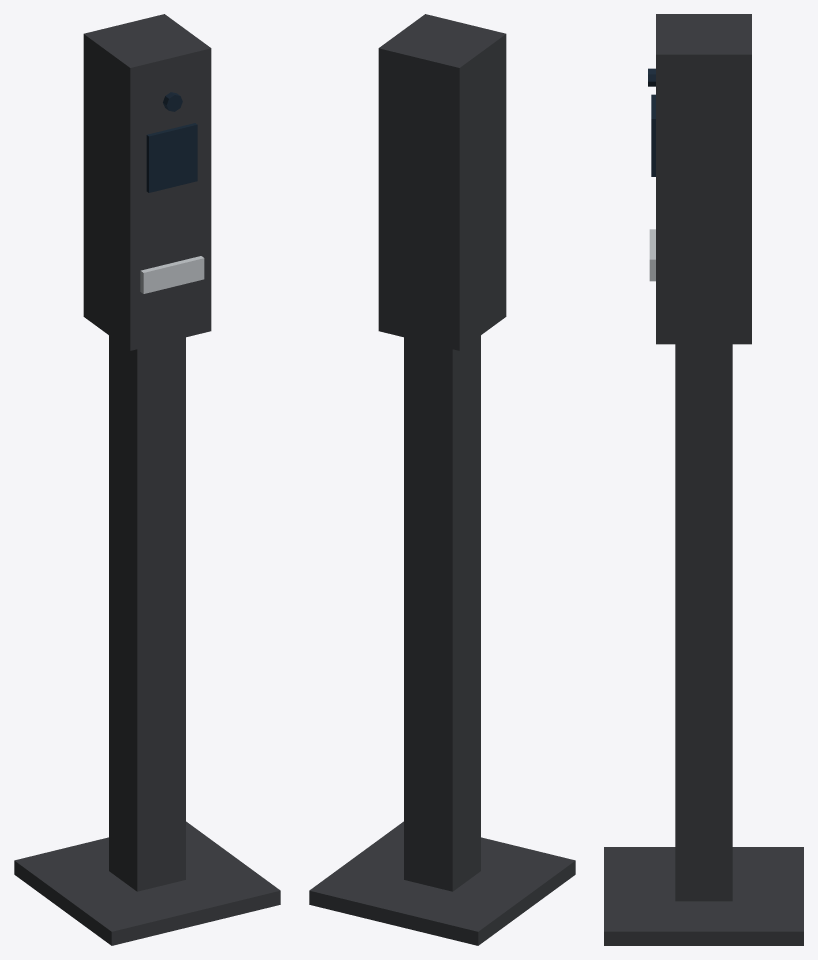
The picture shows the model from 3 angles, left to right: view 1: azimuth 30°, elevation 25°; view 2: azimuth 150°, elevation 25°; view 3: azimuth 270°, elevation 25°; orthographic projection. The views are drawn at different scales.
Visible parts, largest first — view 1: baseOffset=0;depth=0.12;height=1.2;material=steel_dark;power (×3); view 2: baseOffset=0;depth=0.12;height=1.2;material=steel_dark;power; view 3: baseOffset=0;depth=0.12;height=1.2;material=steel_dark;power (×2).
Boxes of the visible parts, bbox=[...] form: baseOffset=0;depth=0.12;height=1.2;material=steel_dark;power (×3): bbox=[14, 14, 280, 945]; baseOffset=0;depth=0.12;height=1.2;material=steel_dark;power: bbox=[309, 14, 575, 945]; baseOffset=0;depth=0.12;height=1.2;material=steel_dark;power (×2): bbox=[604, 14, 803, 945].
Size of the model in its own units: 0.25 by 0.25 by 1.2.
